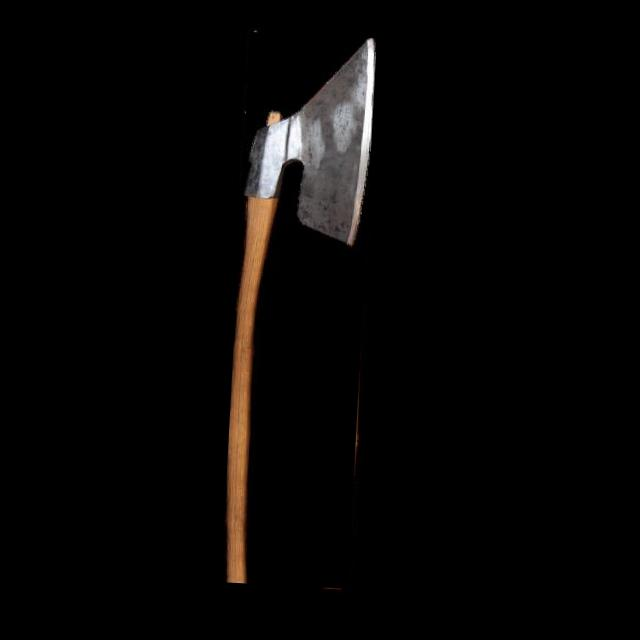Axe: (227, 39, 375, 583)
